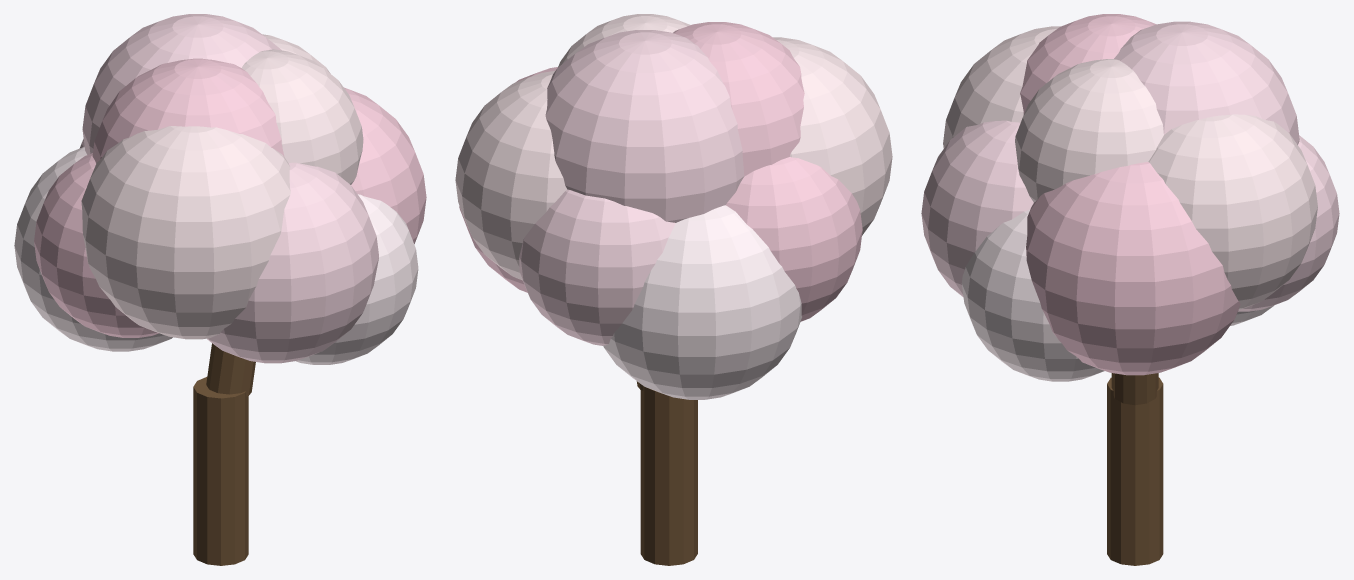
The model's file is tree_sakura.glb.
The picture shows the model from 3 angles, left to right: view 1: azimuth 30°, elevation 25°; view 2: azimuth 150°, elevation 25°; view 3: azimuth 270°, elevation 25°; orthographic projection. The views are drawn at different scales.
Visible parts, largest first — view 1: TreeSakura; view 2: TreeSakura; view 3: TreeSakura.
Part boxes in pixels (box(x1,y1,x2,y2)): TreeSakura: box(14, 14, 426, 565); TreeSakura: box(455, 14, 892, 565); TreeSakura: box(921, 14, 1339, 565).
Size of the model in its own units: 1.81 by 2.45 by 1.78.
